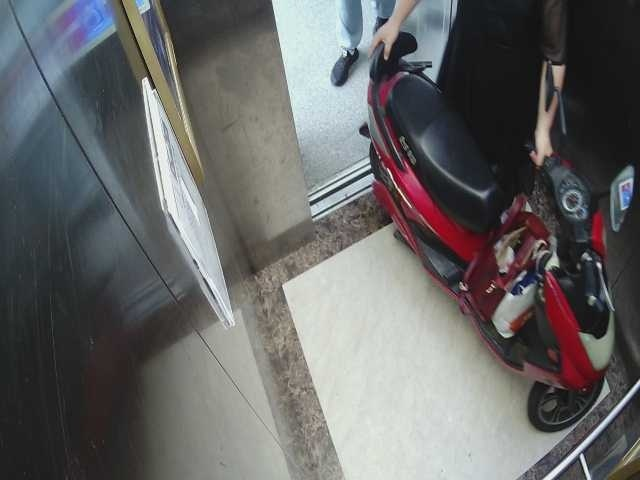emotor: (353, 50, 615, 430)
